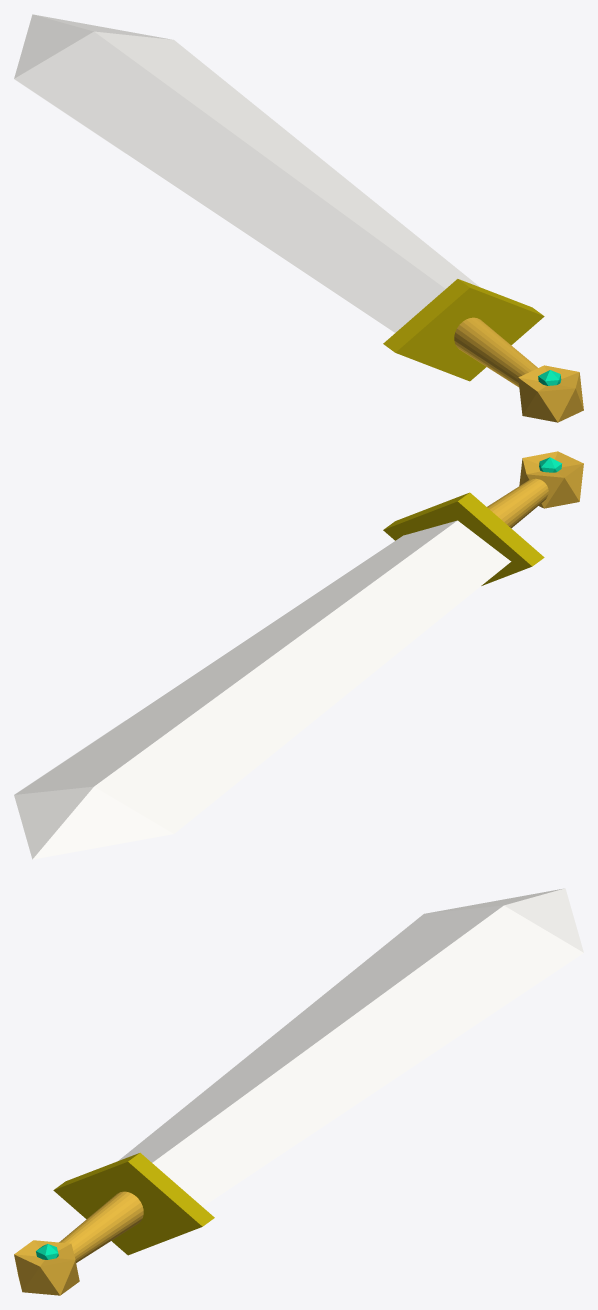
File: blender_sword.fbx
3 renders of one model, top to bottom at view 1: azimuth 30°, elevation 25°; view 2: azimuth 150°, elevation 25°; view 3: azimuth 330°, elevation 25°, orthographic.
Visible parts, largest first — view 1: Plane.002, Cylinder, Cylinder.001; view 2: Plane.002, Cylinder, Cylinder.001; view 3: Plane.002, Cylinder, Cylinder.001.
Part boxes in pixels (box(x1,y1,x2,y2)): Plane.002: box(14, 14, 479, 332); Cylinder: box(383, 279, 544, 381); Cylinder.001: box(454, 317, 583, 422); Plane.002: box(14, 520, 511, 859); Cylinder: box(383, 492, 544, 585); Cylinder.001: box(487, 451, 583, 528); Plane.002: box(118, 888, 583, 1206); Cylinder: box(53, 1152, 214, 1255); Cylinder.001: box(14, 1191, 143, 1295).
Bounding box in the file's own units: 15 × 8.4 × 86.71.
